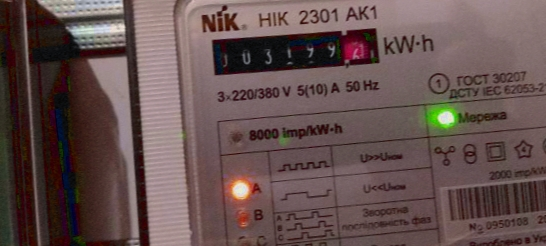0: (216, 48, 230, 70), (239, 45, 253, 67)
1: (283, 41, 295, 61)
3: (261, 46, 274, 66)
6: (351, 45, 362, 62)
9: (304, 39, 317, 60), (325, 39, 338, 59)
screen: (204, 16, 390, 90)
